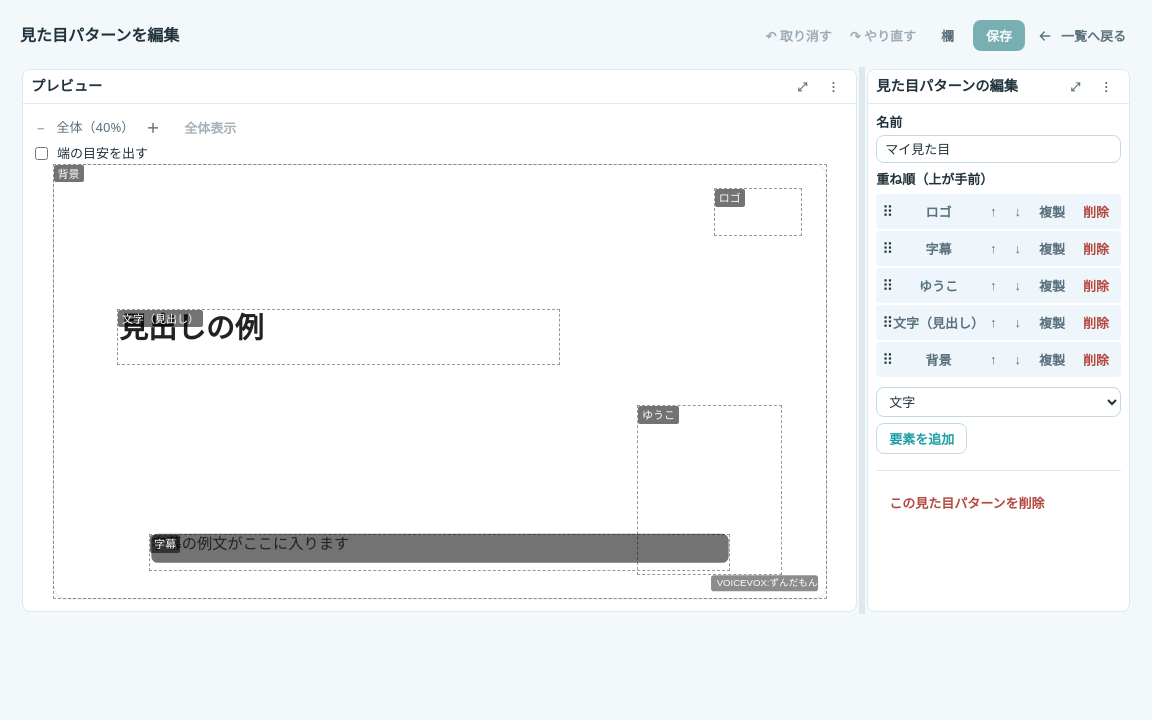
LooksEditScreen 下書きの取り消し/やり直し（#547 P2-3） › 編集前は取り消せない／編集すると取り消せる
The image size is (1152, 720).
Check: the button labelled "↶ 取り消す" is disabled, box [759, 20, 838, 51]
Check: the button labelled "↷ やり直す" is disabled, box [844, 20, 922, 51]
Replace the text in the field showing "マイ見た目" with "新しい名前" at (999, 149), box [876, 135, 1121, 163]
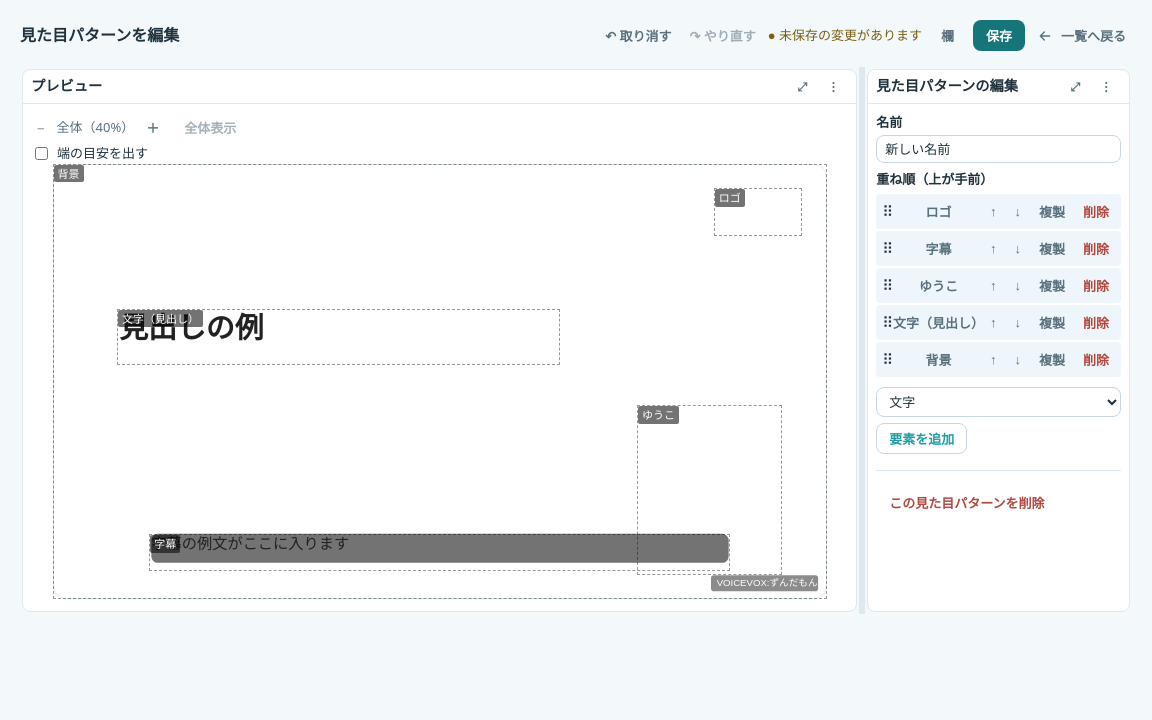
Check: the button labelled "↶ 取り消す" is enabled, box [599, 20, 678, 51]
